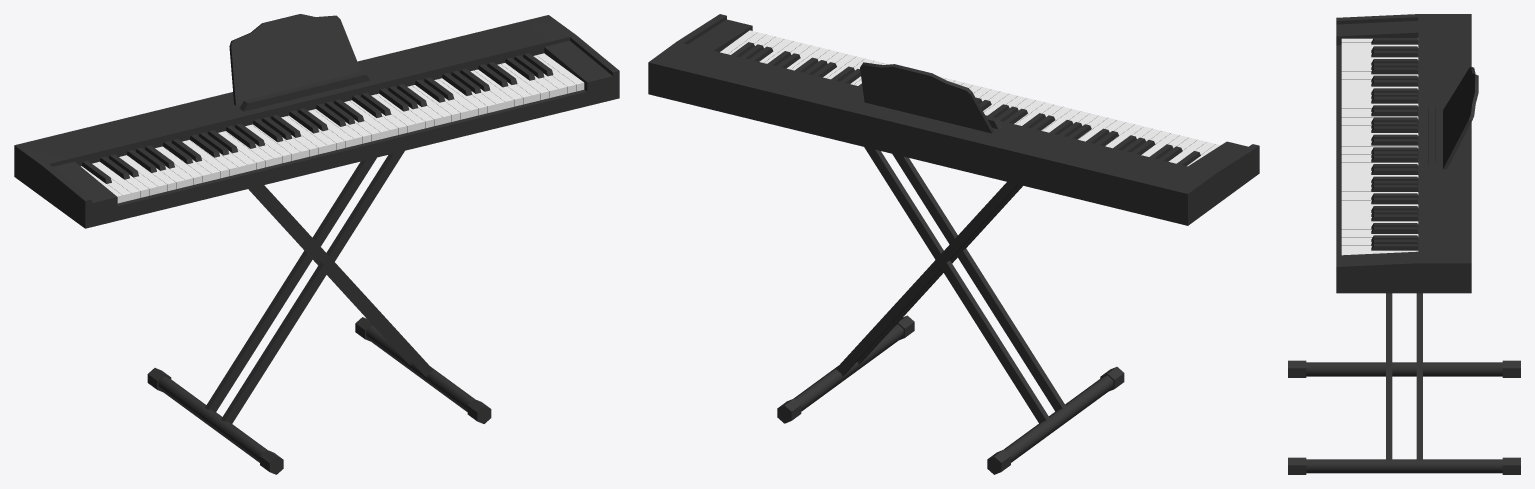
The model's file is electronic_piano.fbx.
3 views of the same model, side by side, from view 1: azimuth 30°, elevation 25°; view 2: azimuth 150°, elevation 25°; view 3: azimuth 270°, elevation 25° (orthographic). The views are drawn at different scales.
Visible parts, largest first — view 1: Box002; view 2: Box002; view 3: Box002.
Part boxes in pixels (x1,y1,x2,y2): Box002: [14, 14, 619, 474]; Box002: [648, 14, 1259, 474]; Box002: [1288, 14, 1520, 474].
Size of the model in its own units: 2.38 by 1.53 by 0.9385.
1 material, 1 textured.
